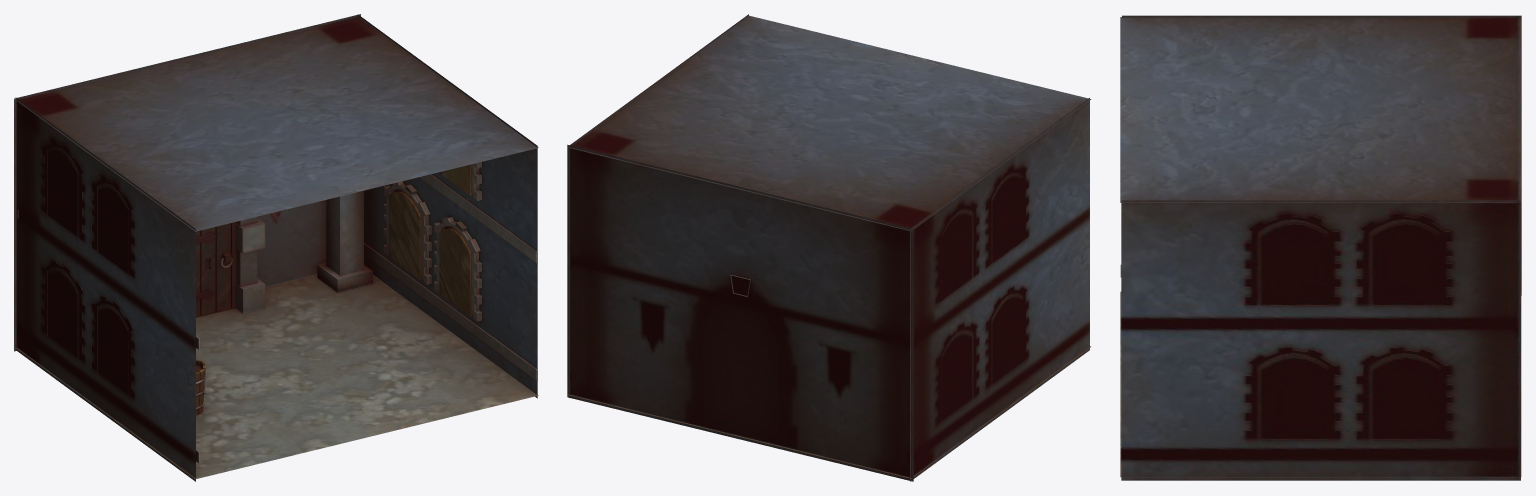
The model's file is OKP - Calabozo - Natalia Caro.fbx.
3 views of the same model, side by side, from view 1: azimuth 30°, elevation 25°; view 2: azimuth 150°, elevation 25°; view 3: azimuth 270°, elevation 25° (orthographic). The views are drawn at different scales.
Parts seen in each view (by area): view 1: polySurface189, polySurface9, polySurface20, polySurface19, polySurface21, pCube2, polySurface165, polySurface11, polySurface18, polySurface190, polySurface15, polySurface22 (+5 smaller); view 2: polySurface21, polySurface189, polySurface9, polySurface20, polySurface19; view 3: polySurface19, polySurface189, polySurface9, polySurface20.
Boxes of the visible parts, x1,y1,x2,y2 form: polySurface189: (16,16,538,231); polySurface9: (15,97,195,481); polySurface20: (16,274,538,479); polySurface19: (358,14,537,398); polySurface21: (14,14,360,351); pCube2: (317,190,372,292); polySurface165: (196,221,236,317); polySurface11: (439,228,471,316); polySurface18: (389,191,421,279); polySurface190: (364,242,537,380); polySurface15: (434,217,481,321); polySurface22: (383,181,431,284); polySurface21: (567,144,913,481); polySurface189: (568,15,1091,231); polySurface9: (910,98,1089,481); polySurface20: (568,346,1091,478); polySurface19: (569,14,748,397); polySurface19: (1121,200,1520,480); polySurface189: (1120,17,1521,202); polySurface9: (1122,15,1521,295); polySurface20: (1120,291,1521,477).
Bounding box in the file's own units: 69.21 × 48.22 × 62.51.
Materials: 1 (1 with a texture image).
